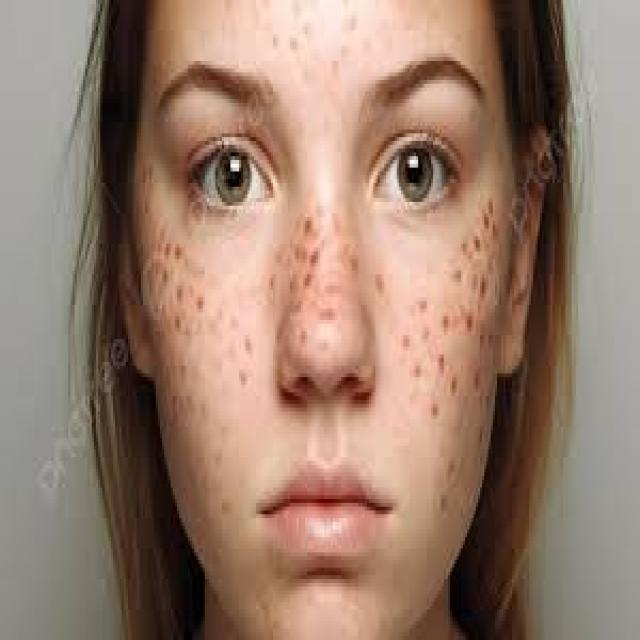Acne: (393, 190, 505, 520), (134, 216, 250, 414), (272, 222, 358, 317)
